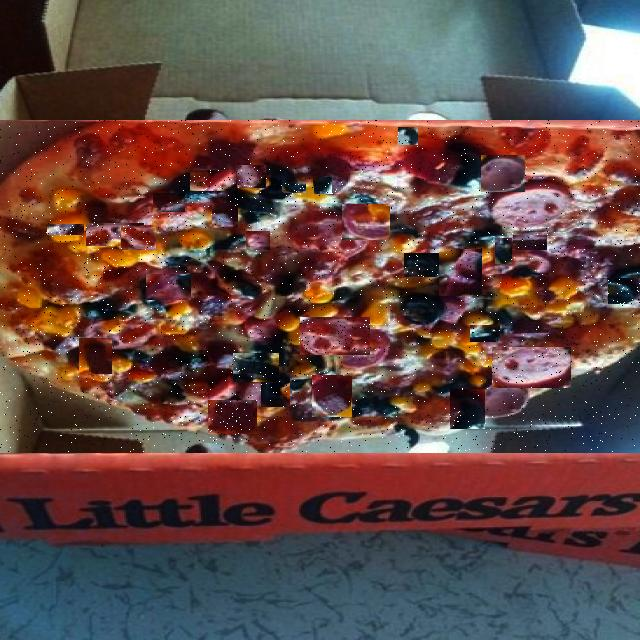Ham: (439, 250, 482, 296), (312, 376, 352, 417), (208, 401, 257, 434), (80, 340, 114, 376), (190, 171, 237, 191), (121, 227, 156, 250), (212, 204, 238, 228), (153, 195, 185, 212), (513, 236, 547, 250), (246, 232, 270, 250), (47, 225, 84, 235)
Olives: (168, 371, 228, 396), (450, 390, 485, 429), (233, 354, 279, 382), (261, 374, 290, 407), (404, 254, 440, 277), (608, 279, 640, 304), (84, 255, 118, 275), (343, 359, 376, 379), (350, 157, 394, 171), (470, 326, 500, 342), (495, 239, 512, 264), (398, 128, 418, 145), (314, 178, 332, 194), (282, 183, 306, 193)
Pepperoni: (492, 348, 571, 388), (300, 318, 370, 355), (342, 205, 390, 240), (481, 156, 525, 192), (86, 224, 144, 246), (146, 276, 191, 302), (236, 166, 266, 188)
Pizza: (0, 121, 640, 452)
